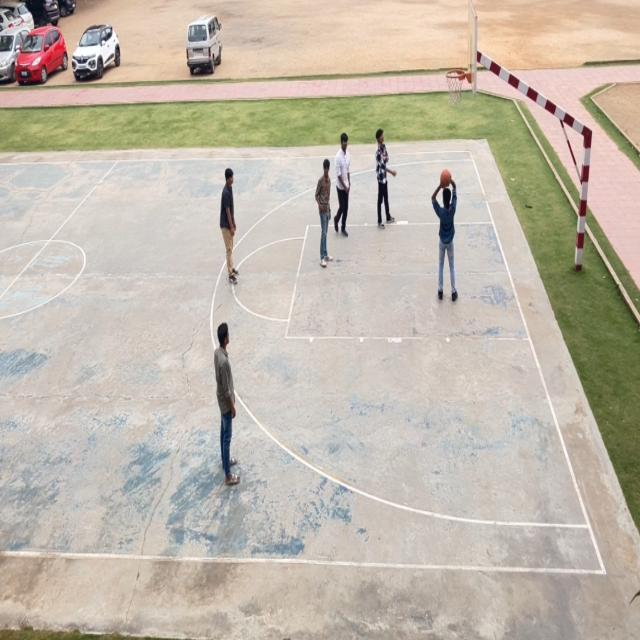basketball: (439, 166, 454, 190)
hoop: (444, 66, 467, 106)
